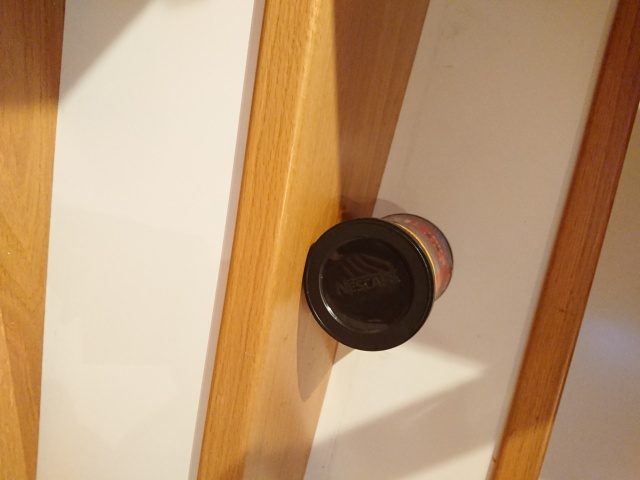Nescafe Classic 225g: (301, 210, 458, 355)
